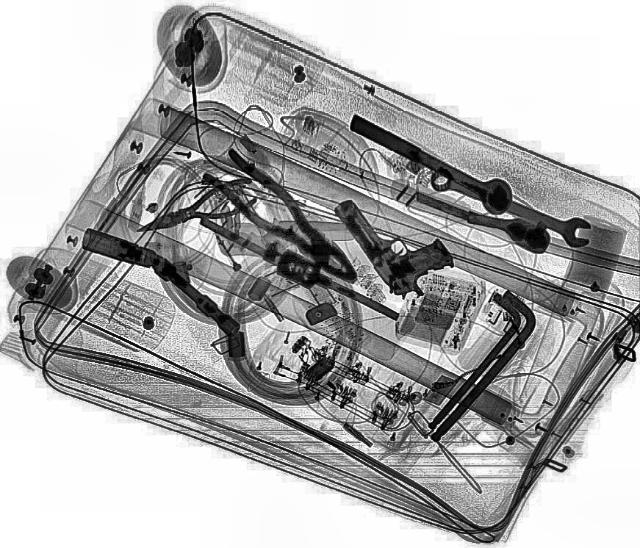Gun: (324, 176, 466, 306)
Pliers: (193, 144, 375, 292), (120, 163, 270, 255)
Wrench: (421, 161, 599, 251)
